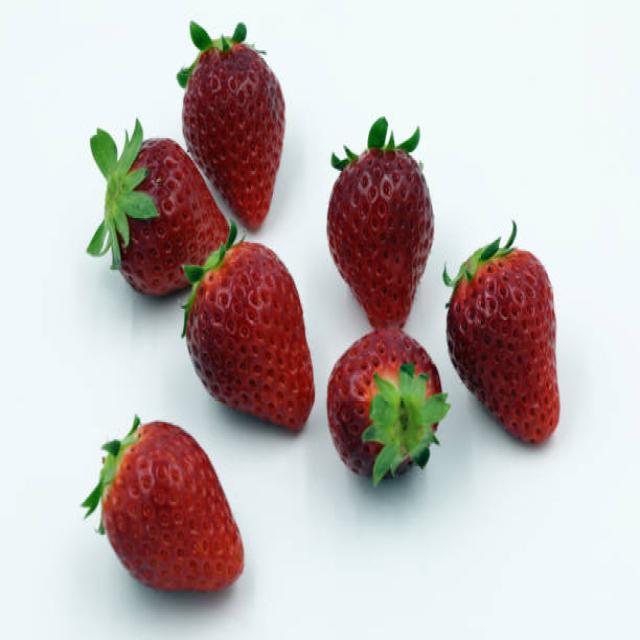Healthy Fruit: (188, 240, 316, 431), (104, 420, 244, 589), (448, 250, 560, 443), (181, 47, 287, 232), (326, 150, 433, 330), (115, 140, 232, 294), (327, 329, 442, 479)
